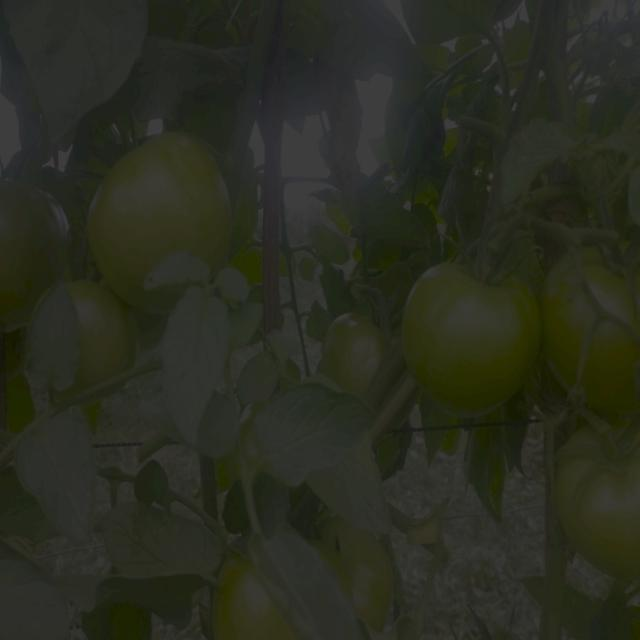tomato: (397, 256, 528, 414), (92, 135, 234, 273), (543, 243, 640, 404), (554, 410, 640, 578), (1, 176, 62, 325), (207, 559, 298, 640), (332, 526, 394, 626), (76, 282, 134, 380), (324, 312, 387, 400)
